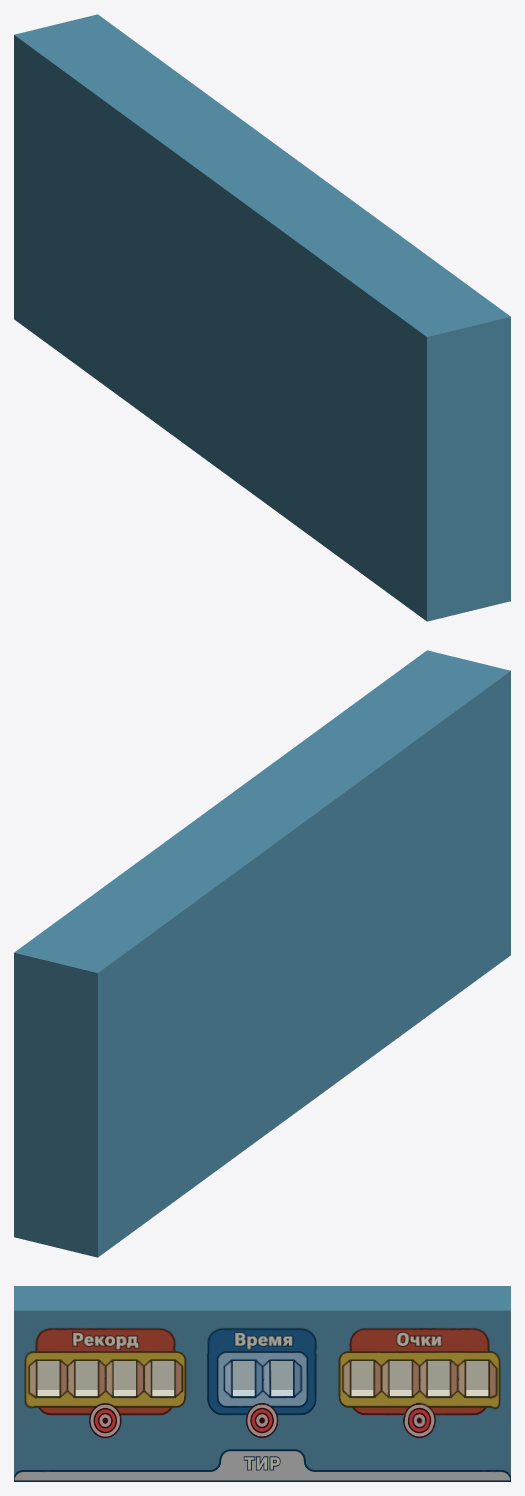
File: tablo.fbx
3 views of the same model, one above another, from view 1: azimuth 30°, elevation 25°; view 2: azimuth 150°, elevation 25°; view 3: azimuth 270°, elevation 25° (orthographic). The views are drawn at different scales.
Visible parts, largest first — view 1: Cube.002; view 2: Cube.002; view 3: Cube.002.
Part boxes in pixels (box(x1,y1,x2,y2)): Cube.002: box(14, 14, 510, 621); Cube.002: box(14, 650, 510, 1257); Cube.002: box(14, 1286, 510, 1481).
Size of the model in its own units: 58.82 by 190 by 500.
